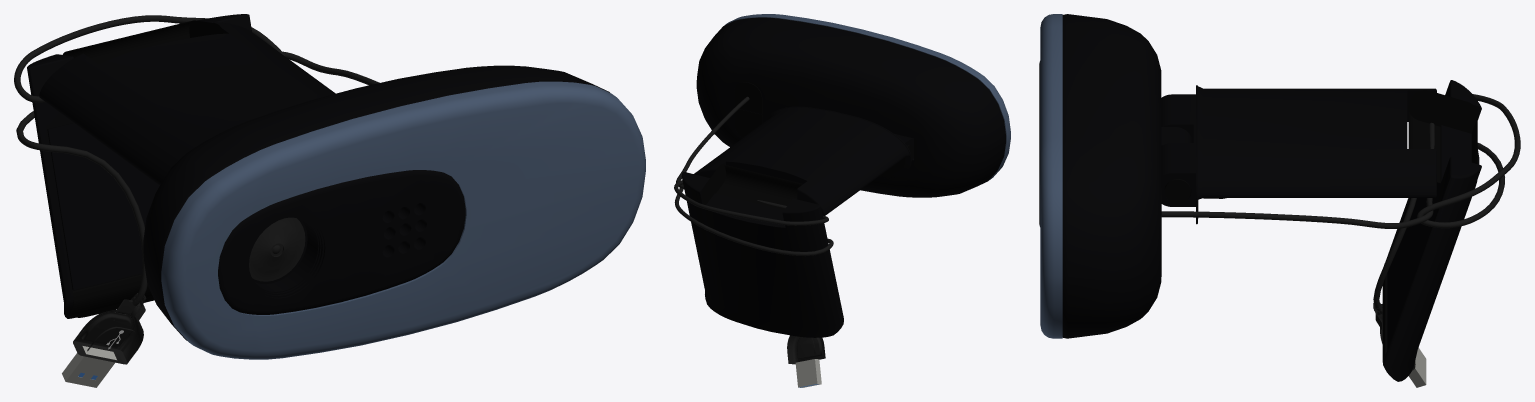
The model's file is lumen-stream-cam.glb.
3 renders of one model, left to right at view 1: azimuth 30°, elevation 25°; view 2: azimuth 150°, elevation 25°; view 3: azimuth 270°, elevation 25°, orthographic. The views are drawn at different scales.
Parts seen in each view (by area): view 1: Orient; view 2: Orient; view 3: Orient.
Boxes of the visible parts, x1,y1,x2,y2 form: Orient: (14,14,645,387); Orient: (674,14,1010,387); Orient: (1039,14,1520,387).
Bounding box in the file's own units: 8.3 × 6.61 × 8.01.
2 materials, 2 textured.
